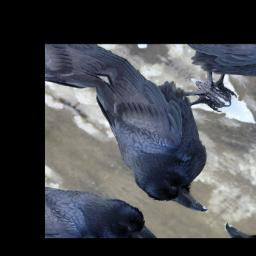Crow: (52, 45, 256, 226)
